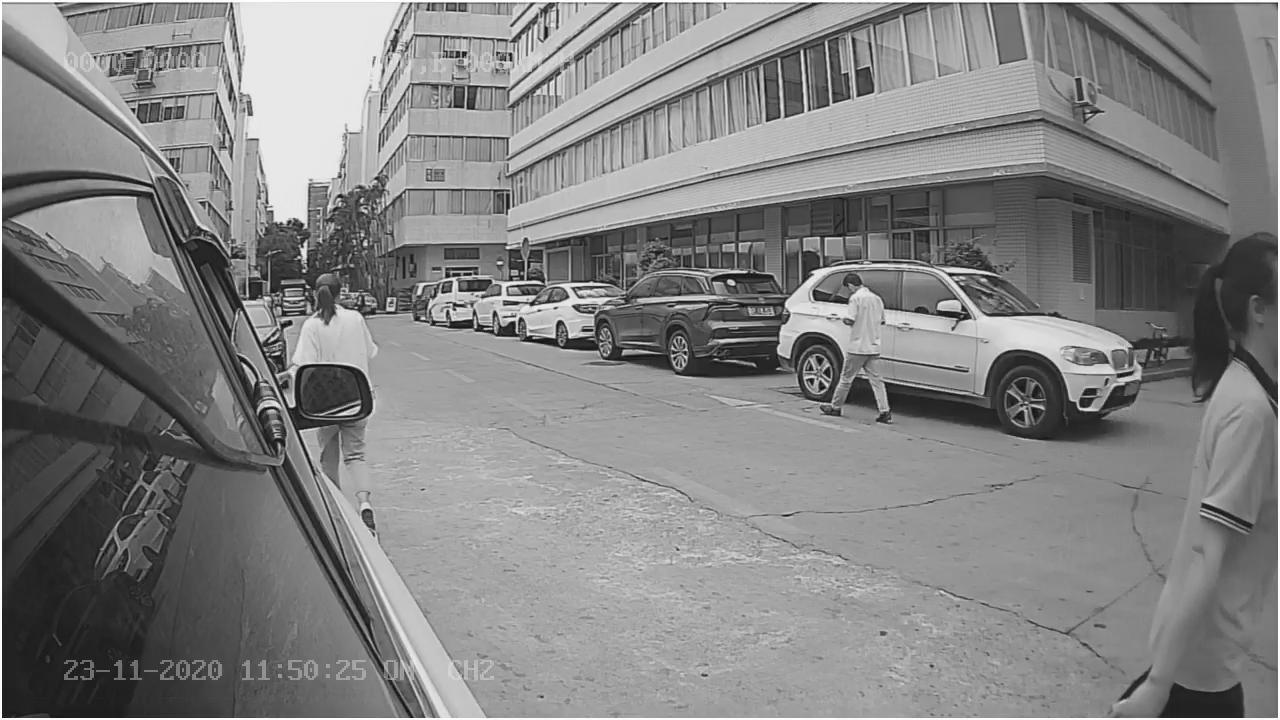person: (816, 262, 897, 430), (290, 271, 379, 362)
